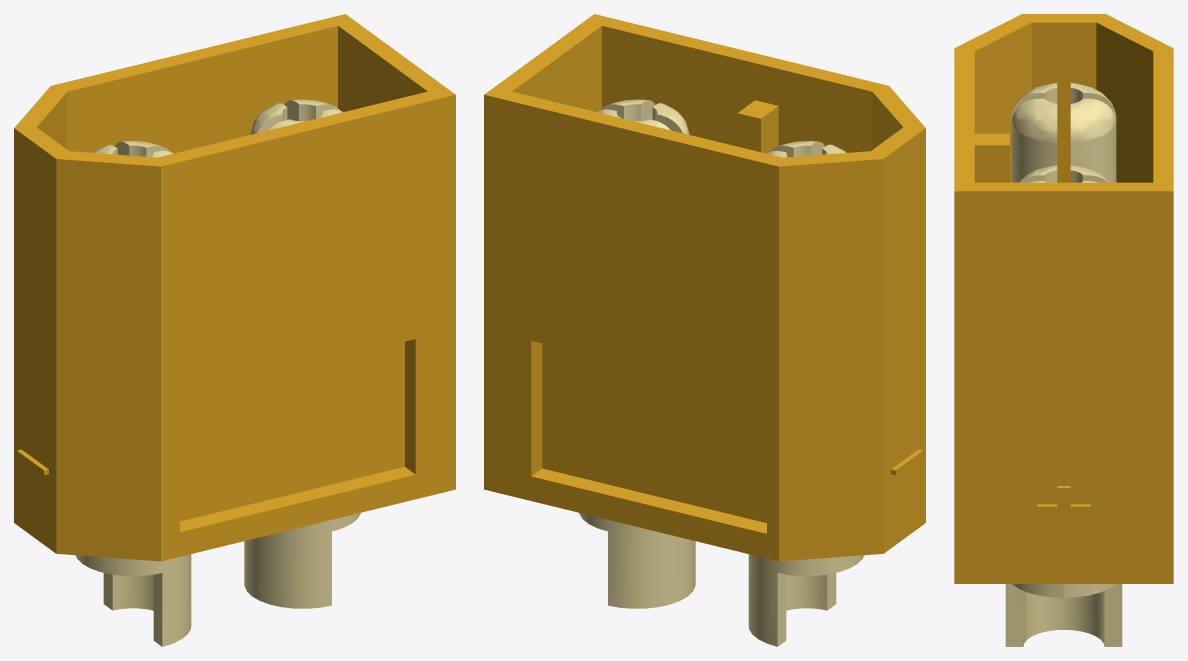
Rendered from kc-amass_xt60-m_1x02_p7.2mm_vertical.glb.
3 renders of one model, left to right at view 1: azimuth 30°, elevation 25°; view 2: azimuth 150°, elevation 25°; view 3: azimuth 270°, elevation 25°, orthographic.
Visible parts, largest first — view 1: 0.8333333333333334_0.4166666666666667_0_0, 0.9166666666666666_0.75_0.4166666666666667_0.9; view 2: 0.8333333333333334_0.4166666666666667_0_0, 0.9166666666666666_0.75_0.4166666666666667_0.9; view 3: 0.8333333333333334_0.4166666666666667_0_0, 0.9166666666666666_0.75_0.4166666666666667_0.9.
Part boxes in pixels (bbox=[...]): 0.8333333333333334_0.4166666666666667_0_0: bbox=[14, 14, 455, 561]; 0.9166666666666666_0.75_0.4166666666666667_0.9: bbox=[75, 99, 360, 646]; 0.8333333333333334_0.4166666666666667_0_0: bbox=[484, 14, 925, 561]; 0.9166666666666666_0.75_0.4166666666666667_0.9: bbox=[579, 99, 864, 646]; 0.8333333333333334_0.4166666666666667_0_0: bbox=[954, 14, 1173, 583]; 0.9166666666666666_0.75_0.4166666666666667_0.9: bbox=[1005, 82, 1122, 646].
Bounding box in the file's own units: 1.59 × 2.05 × 0.8101.
